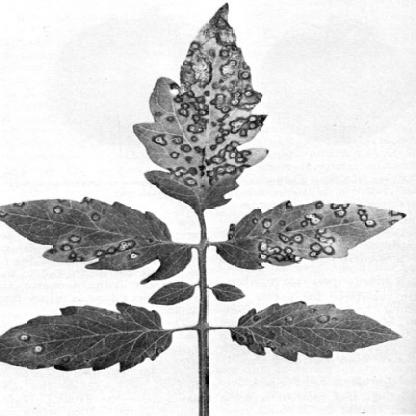tomato septoria leaf spot: (134, 4, 272, 210), (5, 187, 192, 282), (233, 295, 410, 378), (4, 299, 177, 381), (211, 200, 408, 270)
